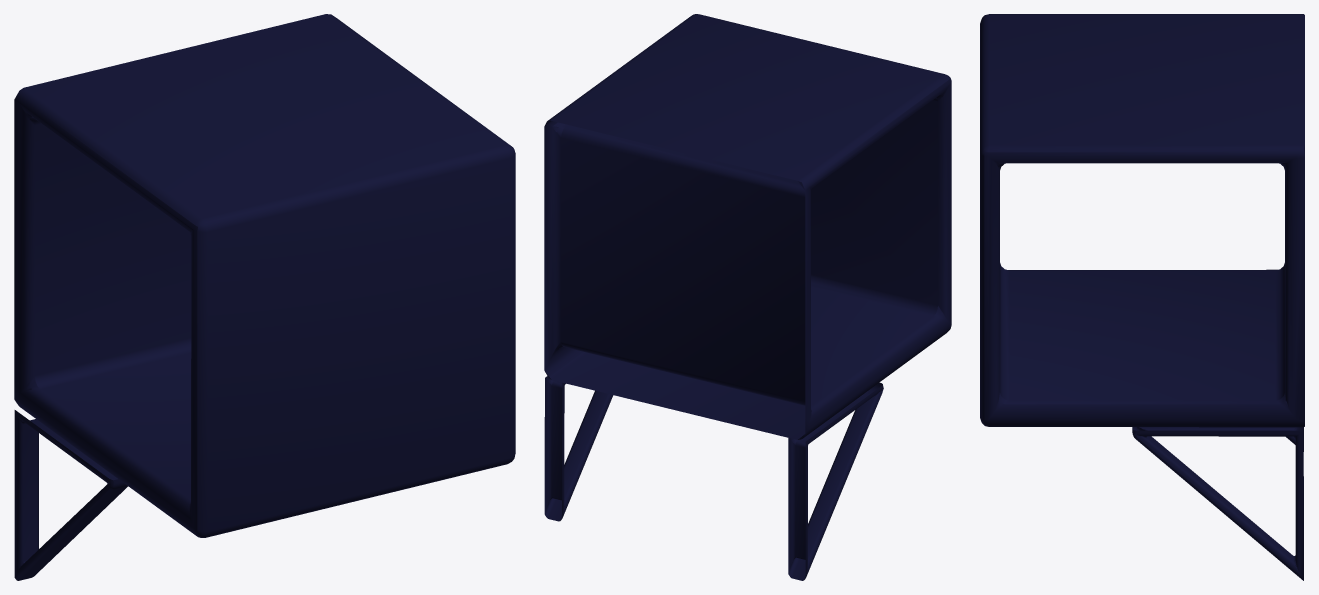
File: ledge3.fbx
3 views of the same model, side by side, from view 1: azimuth 30°, elevation 25°; view 2: azimuth 150°, elevation 25°; view 3: azimuth 270°, elevation 25° (orthographic). The views are drawn at different scales.
Parts seen in each view (by area): view 1: Cube.068, Cube.018; view 2: Cube.068, Cube.018, Cube.030; view 3: Cube.068, Cube.030.
Boxes of the visible parts, <box> form: Cube.068: <box>14,14,515,537</box>; Cube.018: <box>14,410,127,580</box>; Cube.068: <box>544,14,951,439</box>; Cube.018: <box>788,382,883,580</box>; Cube.030: <box>544,376,613,521</box>; Cube.068: <box>980,14,1304,427</box>; Cube.030: <box>1132,427,1303,580</box>.
Bounding box in the file's own units: 33.52 × 49.01 × 33.28.
